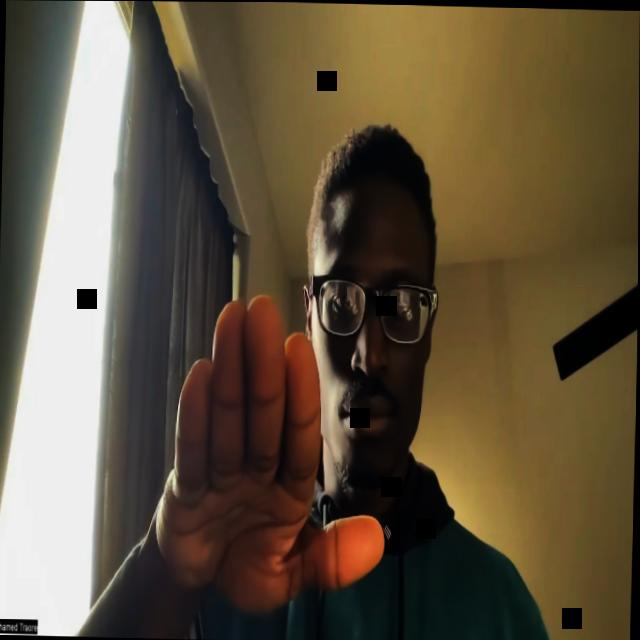Paper: (155, 293, 390, 618)
